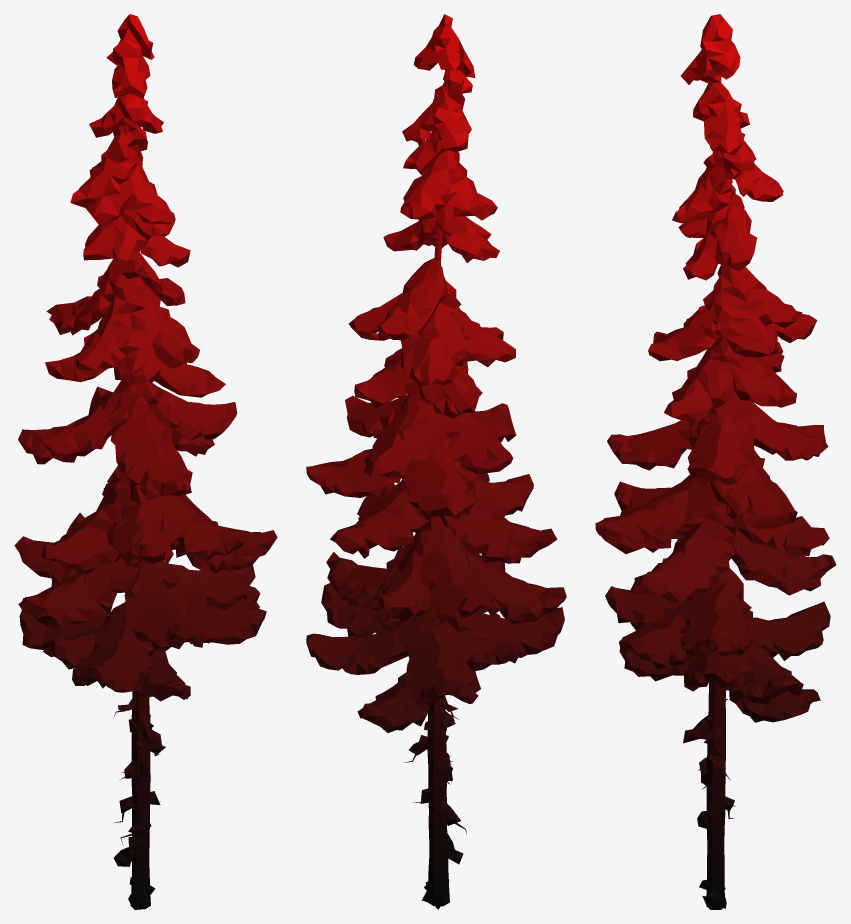
Rendered from TreeSpruceTall08_Snow.fbx.
3 renders of one model, left to right at view 1: azimuth 30°, elevation 25°; view 2: azimuth 150°, elevation 25°; view 3: azimuth 270°, elevation 25°, orthographic.
Visible parts, largest first — view 1: TreeSpruceTall08_Snow_LOD0; view 2: TreeSpruceTall08_Snow_LOD0; view 3: TreeSpruceTall08_Snow_LOD0.
Part boxes in pixels (<box>): TreeSpruceTall08_Snow_LOD0: <box>14,14,277,909</box>; TreeSpruceTall08_Snow_LOD0: <box>306,14,566,909</box>; TreeSpruceTall08_Snow_LOD0: <box>595,14,836,909</box>.
Size of what is drawn, in the model's own units: 515 by 1851 by 454.
